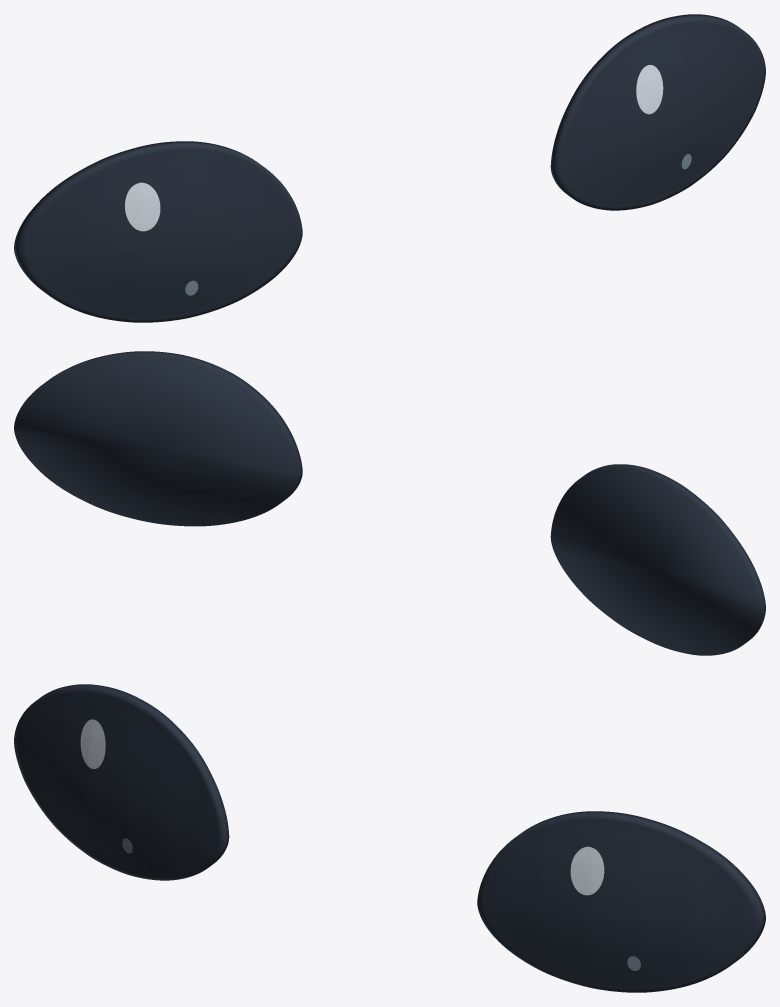
Rendered from Masculine-eyes-almond.glb.
3 views of the same model, one above another, from view 1: azimuth 30°, elevation 25°; view 2: azimuth 150°, elevation 25°; view 3: azimuth 330°, elevation 25° (orthographic).
Parts seen in each view (by area): view 1: Eye / natural almond192 -1, Eye / natural almond192 1, Eye highlight / main192 -1, Eye highlight / main192 1; view 2: Eye / natural almond192 1, Eye / natural almond192 -1; view 3: Eye / natural almond192 1, Eye / natural almond192 -1, Eye highlight / main192 1, Eye highlight / main192 -1.
Part boxes in pixels (bbox=[...]): Eye / natural almond192 -1: bbox=[14, 141, 302, 322]; Eye / natural almond192 1: bbox=[550, 14, 765, 210]; Eye highlight / main192 -1: bbox=[125, 182, 160, 231]; Eye highlight / main192 1: bbox=[636, 65, 663, 114]; Eye / natural almond192 1: bbox=[14, 351, 302, 526]; Eye / natural almond192 -1: bbox=[550, 464, 765, 655]; Eye / natural almond192 1: bbox=[477, 811, 765, 992]; Eye / natural almond192 -1: bbox=[14, 684, 229, 880]; Eye highlight / main192 1: bbox=[570, 846, 604, 895]; Eye highlight / main192 -1: bbox=[80, 719, 105, 768].
Bounding box in the file's own units: 0.448 × 0.0983 × 0.0437.
